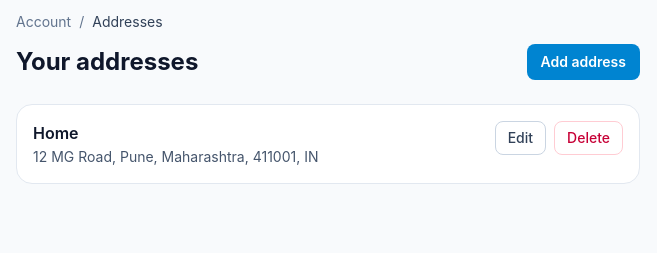
it: AddressesPage › surfaces a delete conflict from the API
Expected: the text "Home" is shown, [33,123,78,143]
Click the button "Delete" at (589, 138), box [554,121,623,155]
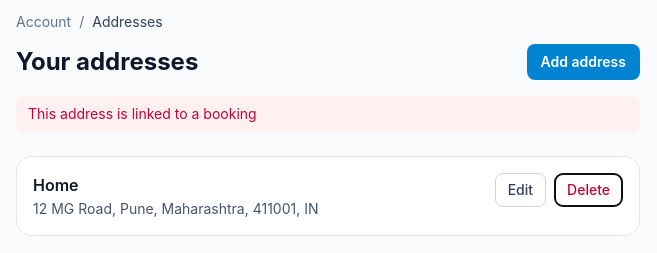
Expected: the message shows "linked to a booking", [28,105,257,122]
